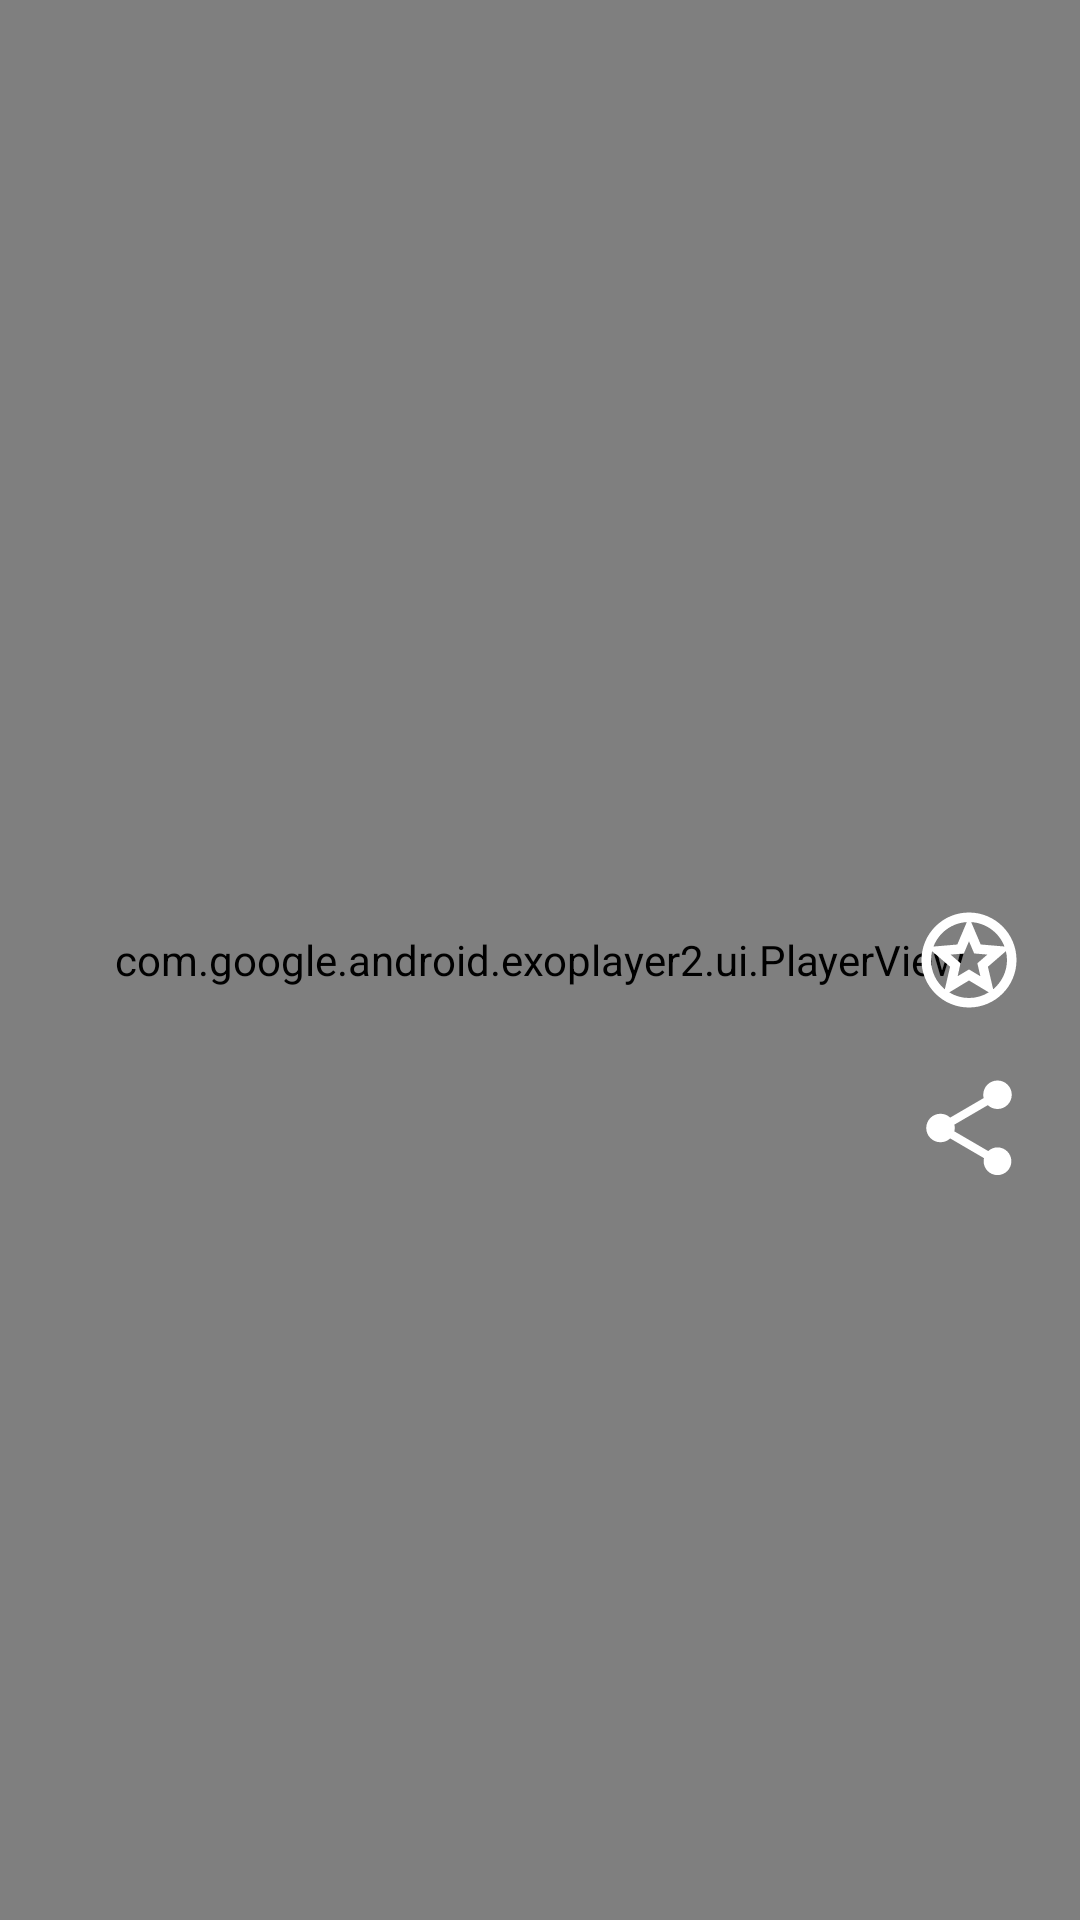

Where to tap for icons on this 1080w x 1920h app screen, as (x,y):
share: (969,1127)
star: (965,960)
